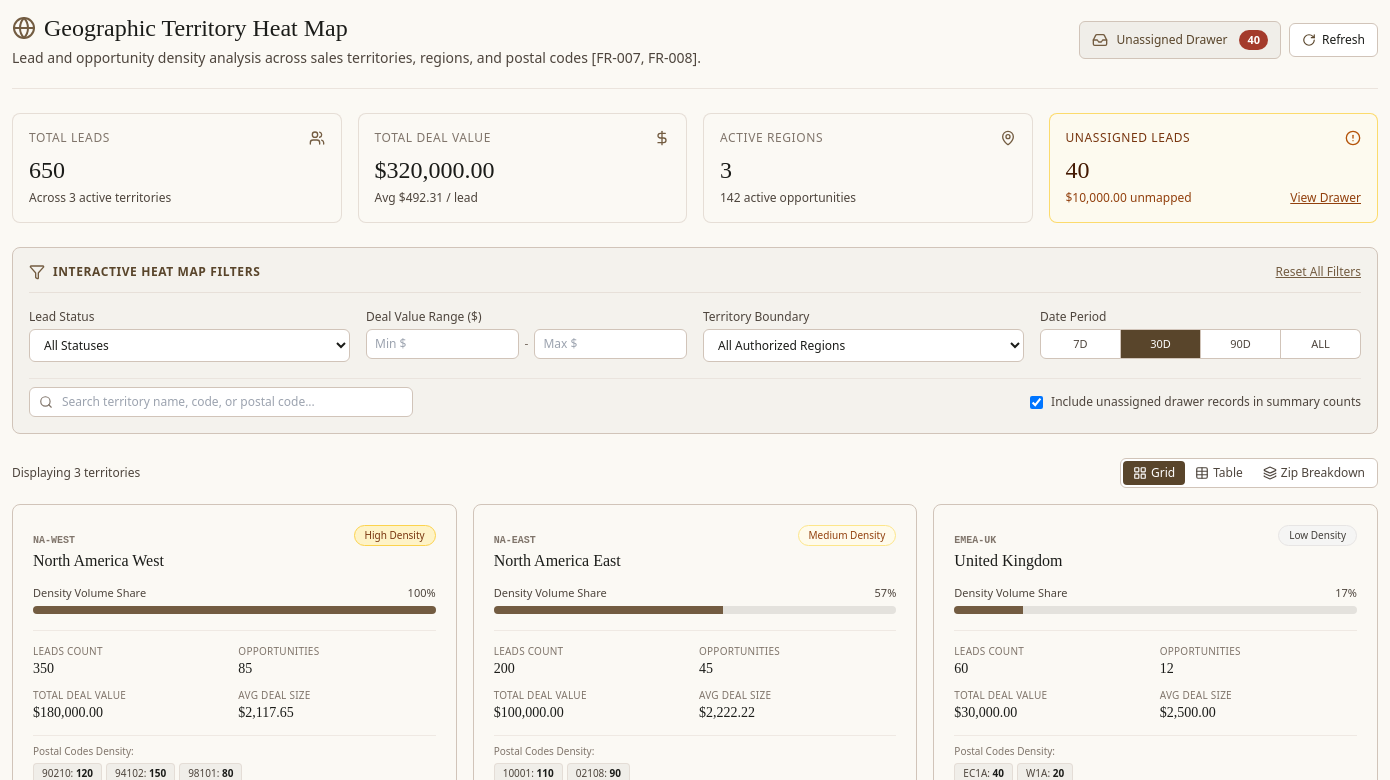
Scenario: TerritoryHeatMap Component [FR-007, FR-008] › Component Rendering & Interactive Features [FR-007, FR-008] › filters territories interactively via search input [FR-008]
Type "UK" into the field with placeholder "Search territory name, code, or postal code..." at (221, 402), box [29, 387, 413, 417]
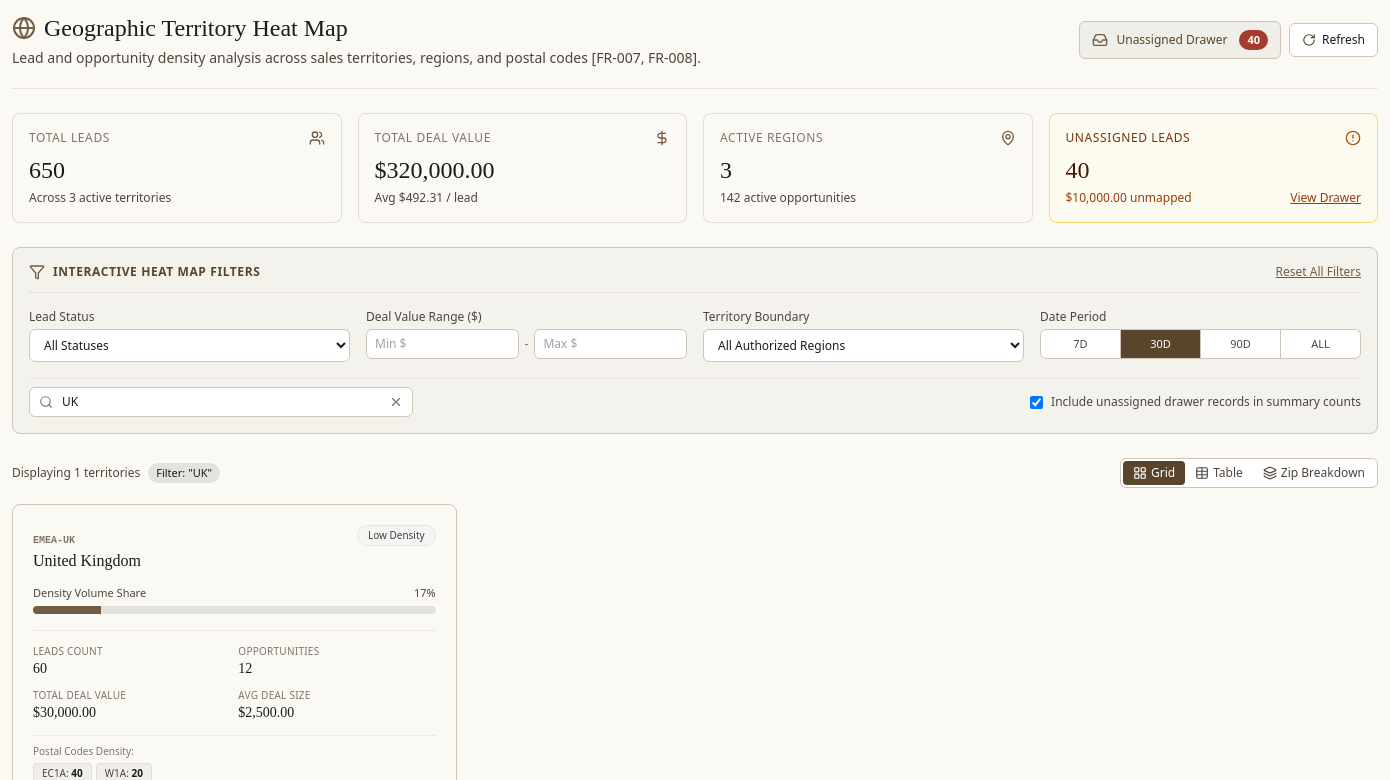
Check: the heading "United Kingdom" is shown, box [33, 549, 141, 573]
Check: the heading "North America West" is gone
